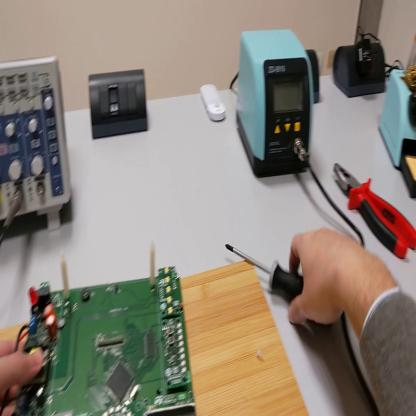hand: (287, 226, 368, 331), (1, 329, 44, 407)
low voltage board: (15, 241, 194, 415)
oscilloscope: (2, 55, 75, 235)
pliers: (335, 158, 415, 260)
screwdriver-: (226, 245, 302, 293)
socket: (334, 35, 387, 97), (307, 50, 320, 102)
welder base: (379, 71, 414, 199)
welder station: (238, 33, 316, 179)
working area: (179, 260, 308, 414)
